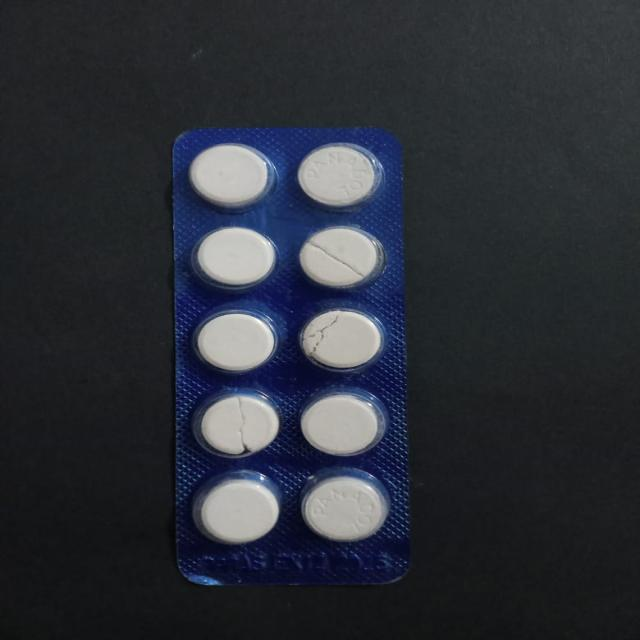defect: (296, 222, 389, 294), (191, 389, 284, 461), (298, 306, 387, 374)
